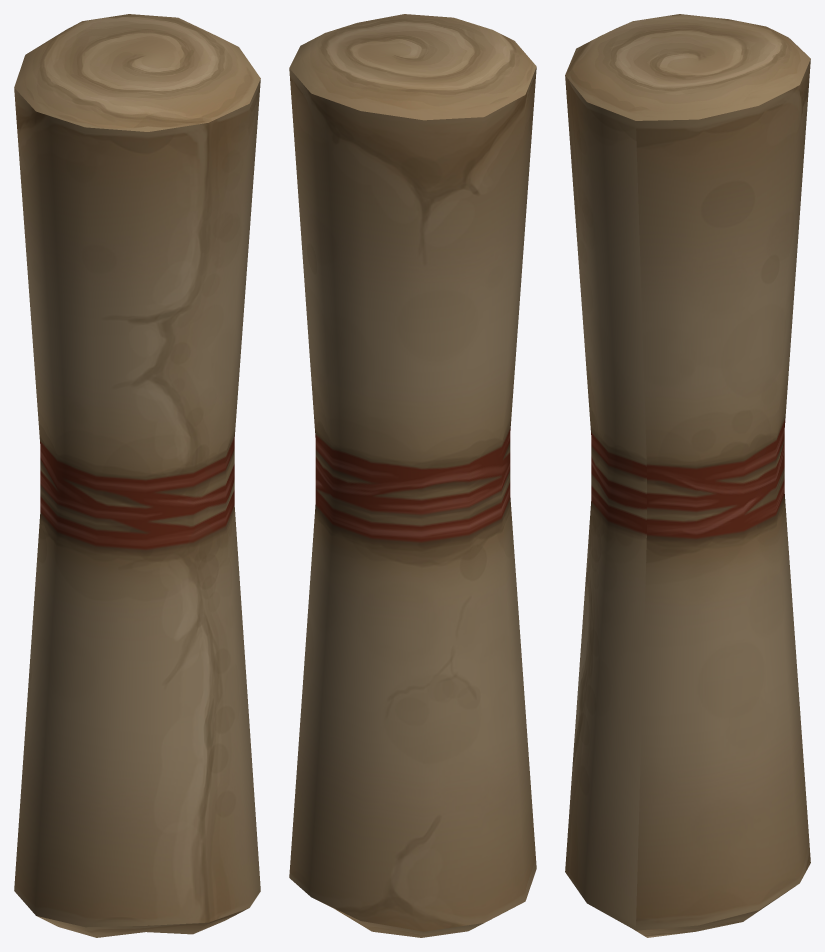
File: Scroll_1.FBX
3 renders of one model, left to right at view 1: azimuth 30°, elevation 25°; view 2: azimuth 150°, elevation 25°; view 3: azimuth 270°, elevation 25°, orthographic.
Parts seen in each view (by area): view 1: Scroll_1; view 2: Scroll_1; view 3: Scroll_1.
Part boxes in pixels (x1,y1,x2,y2): Scroll_1: (14, 14, 260, 937); Scroll_1: (289, 14, 536, 937); Scroll_1: (565, 14, 810, 937).
Size of the model in its own units: 120 by 459 by 120.
1 material, 1 textured.
